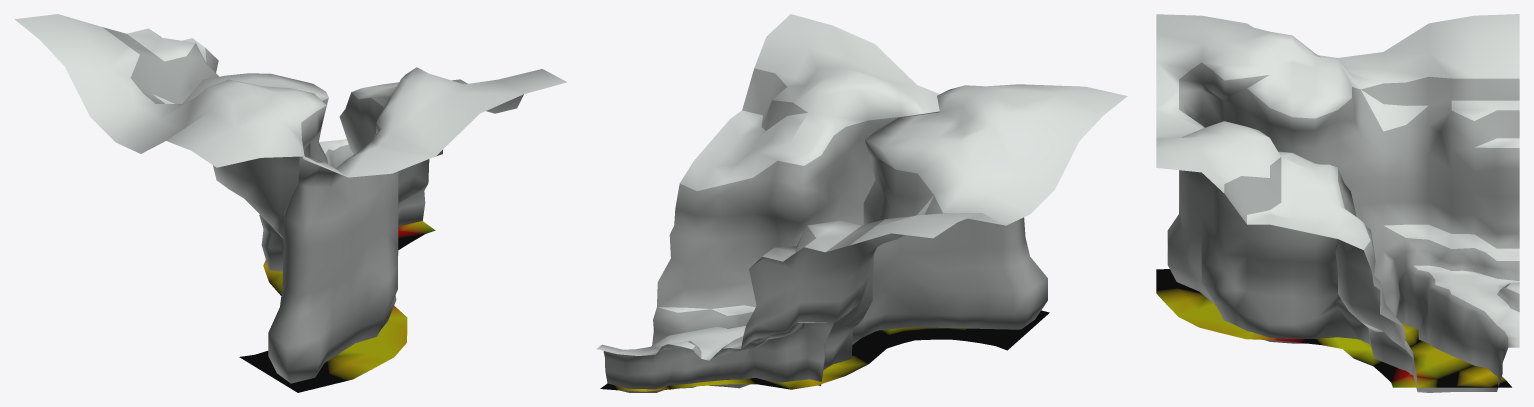
The picture shows the model from 3 angles, left to right: view 1: azimuth 30°, elevation 25°; view 2: azimuth 150°, elevation 25°; view 3: azimuth 270°, elevation 25°; orthographic projection. The views are drawn at different scales.
Parts seen in each view (by area): view 1: G:\FFXIV-MapTools\exports\f1t2\bg\ffxiv\fst_f1\twn\f1t2\bgpl (×4); view 2: G:\FFXIV-MapTools\exports\f1t2\bg\ffxiv\fst_f1\twn\f1t2\bgpl (×4); view 3: G:\FFXIV-MapTools\exports\f1t2\bg\ffxiv\fst_f1\twn\f1t2\bgpl (×5).
Part boxes in pixels (<box>): G:\FFXIV-MapTools\exports\f1t2\bg\ffxiv\fst_f1\twn\f1t2\bgpl (×4): <box>15,14,566,392</box>; G:\FFXIV-MapTools\exports\f1t2\bg\ffxiv\fst_f1\twn\f1t2\bgpl (×4): <box>596,14,1127,392</box>; G:\FFXIV-MapTools\exports\f1t2\bg\ffxiv\fst_f1\twn\f1t2\bgpl (×5): <box>1156,14,1519,392</box>.
Size of the model in its own units: 64 by 47.29 by 64.
